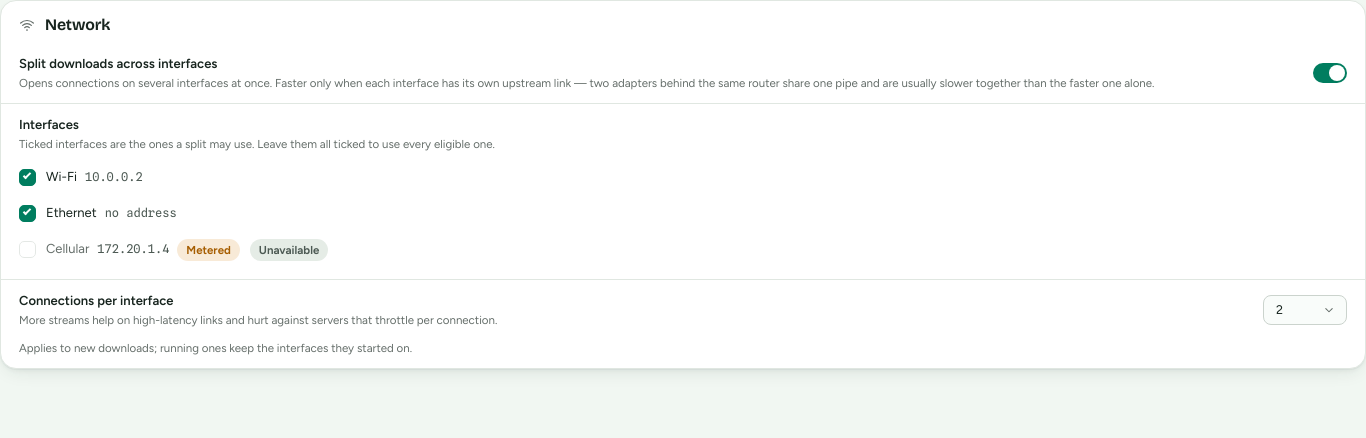
Scenario: NetworkCard › will not save with nothing ticked
The width and height of the screenshot is (1366, 438).
Click the checkbox labelled "Wi-Fi 10.0.0.2" at coordinates (28, 178), box [19, 169, 36, 186]
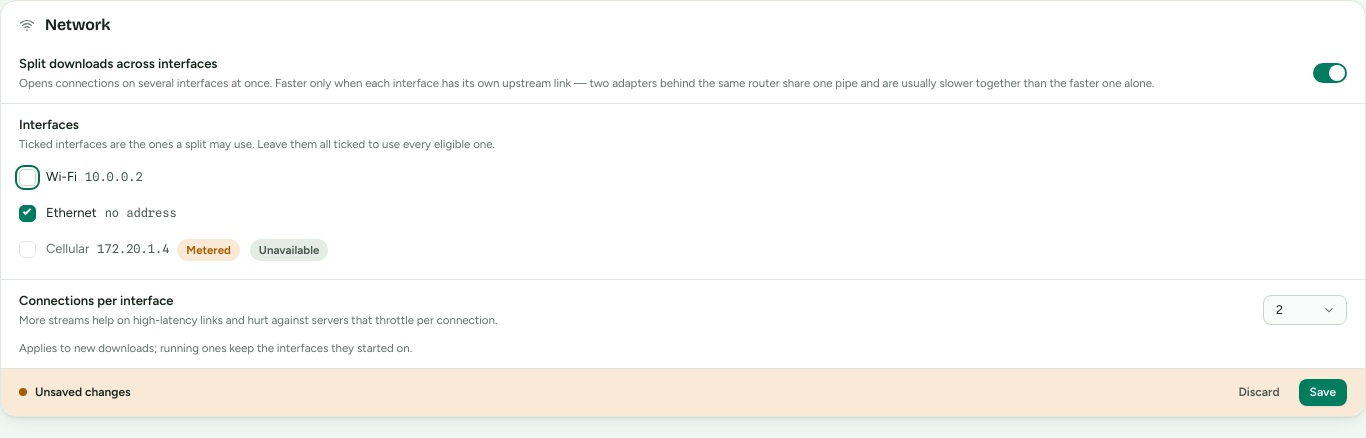
Click the checkbox labelled "Ethernet no address" at coordinates (28, 214), box [19, 205, 36, 222]
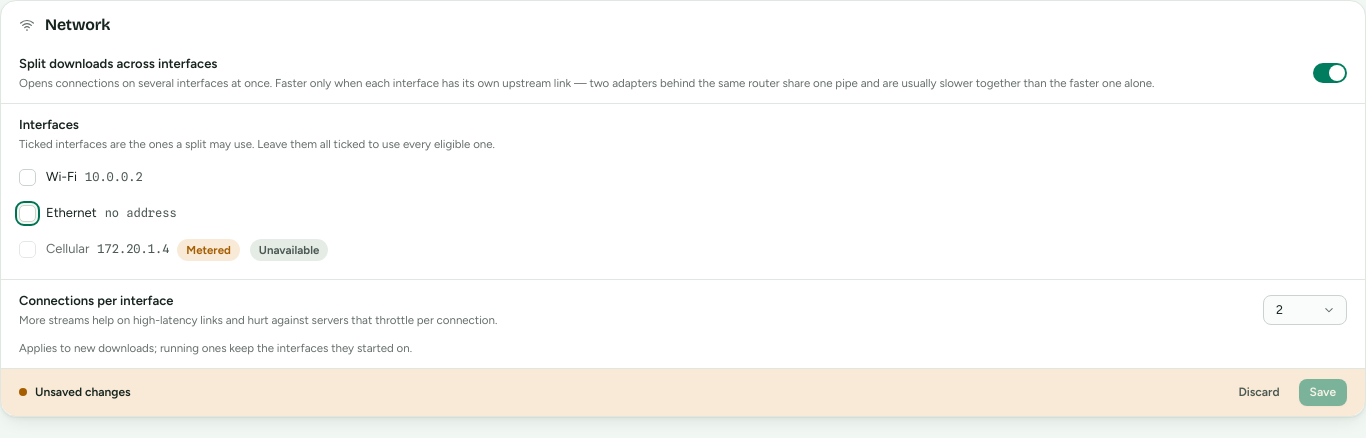
Expected: the button "Save" is disabled, [1299, 379, 1347, 406]
